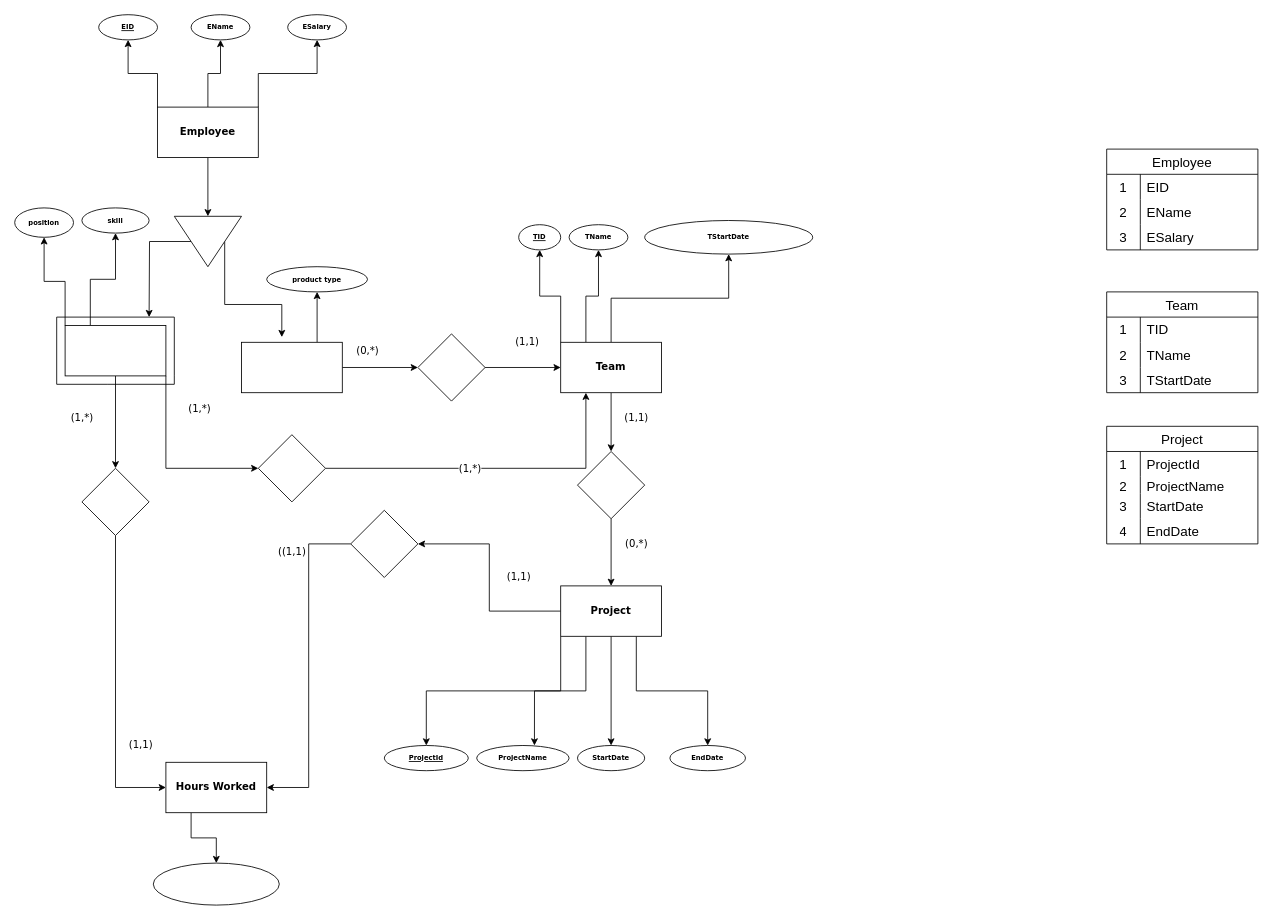
The diagram is 1273 pixels wide and 920 high, and some of its shapes have lost their labels. The shapes that lost their labels are listed below. From the top down, each one's centre as x and y in pixels, then its label:
At pixel 207 241: "IS A".
At pixel 115 350: "Developer".
At pixel 291 367: "Devlopement Manager".
At pixel 451 367: "Manages".
At pixel 291 468: "Involve".
At pixel 611 485: "Works".
At pixel 115 501: "Spend".
At pixel 384 543: "Assign".
At pixel 215 883: "number of hours".
